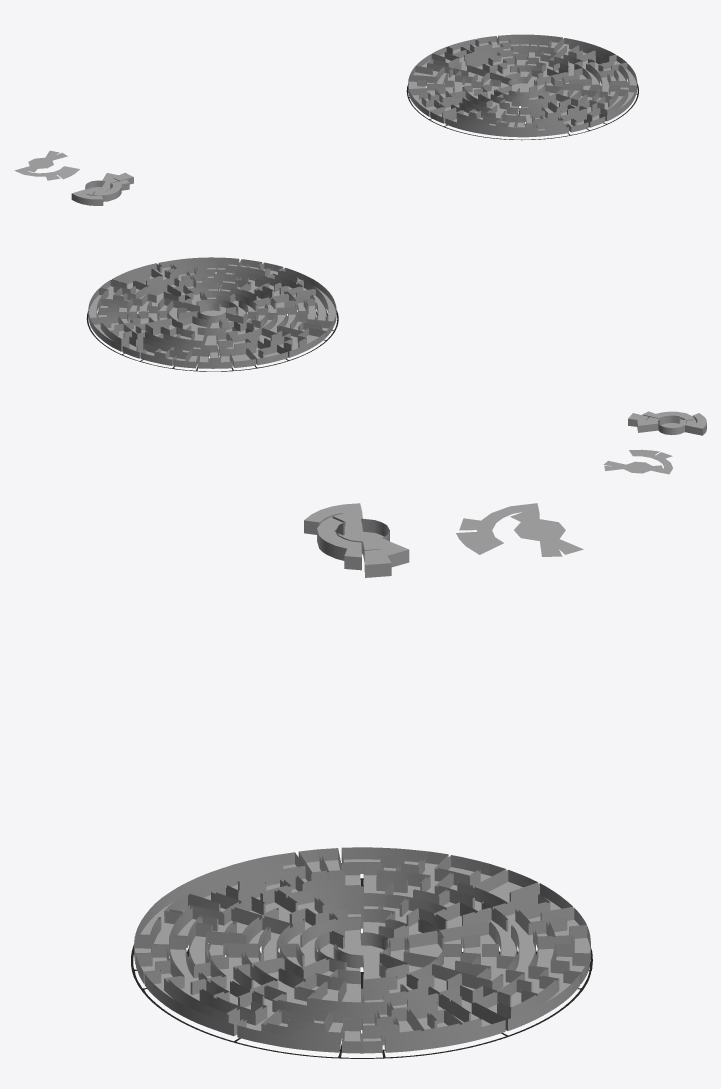
Rendered from labirinto-v2.fbx.
3 views of the same model, one above another, from view 1: azimuth 30°, elevation 25°; view 2: azimuth 150°, elevation 25°; view 3: azimuth 270°, elevation 25° (orthographic). The views are drawn at different scales.
Visible parts, largest first — view 1: pPlane4, pPlane2, pPlane3, pPlane1; view 2: pPlane4, pPlane2, pPlane3, pPlane1; view 3: pPlane4, pPlane2, pPlane3, pPlane1.
Boxes of the visible parts, x1,y1,x2,y2 form: pPlane4: (408, 34, 637, 137); pPlane2: (71, 172, 133, 205); pPlane3: (14, 150, 79, 180); pPlane1: (406, 58, 638, 140); pPlane4: (88, 257, 336, 368); pPlane2: (628, 411, 706, 435); pPlane3: (603, 449, 672, 474); pPlane1: (86, 310, 338, 371); pPlane4: (134, 847, 590, 1053); pPlane2: (304, 503, 409, 577); pPlane3: (456, 503, 583, 556); pPlane1: (131, 863, 592, 1058).
Bounding box in the file's own units: 95.8 × 1.32 × 38.14.
2 materials, 1 textured.
